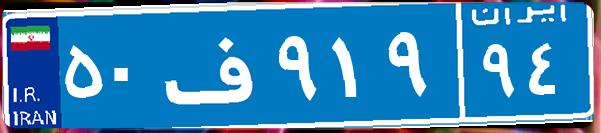0: (110, 28, 158, 105)
1: (330, 28, 385, 110)
4: (525, 38, 570, 115)
5: (57, 26, 110, 107)
9: (385, 28, 445, 110), (273, 28, 330, 110), (475, 38, 525, 113)
ف: (158, 15, 273, 115)
